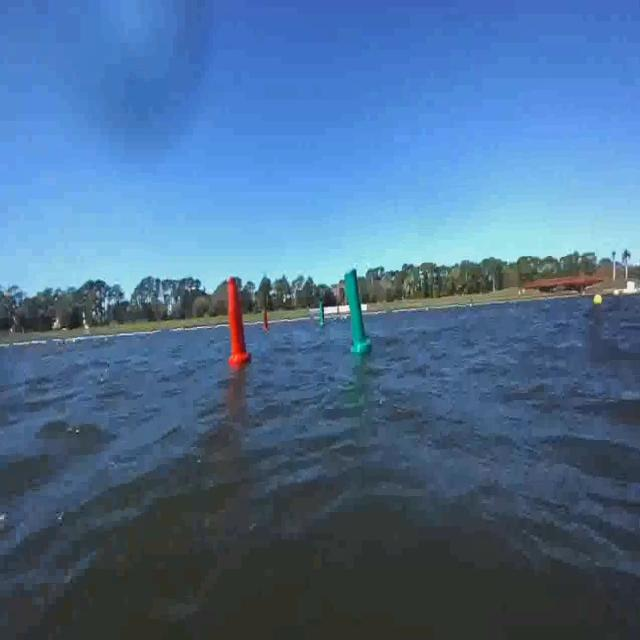green-column-buoy: (343, 268, 373, 355), (318, 300, 326, 327)
red-column-buoy: (228, 275, 252, 366), (264, 309, 272, 335)
yellow-buoy: (594, 292, 604, 306)
